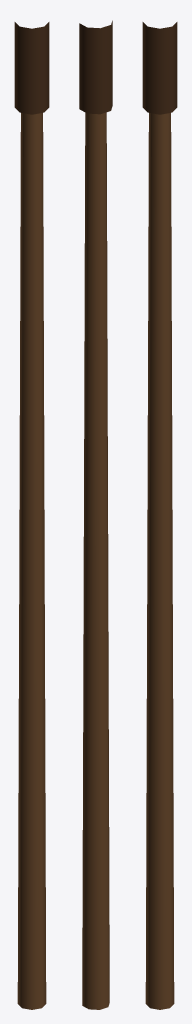
The model's file is stick.glb.
3 renders of one model, left to right at view 1: azimuth 90°, elevation 25°; view 2: azimuth 150°, elevation 25°; view 3: azimuth 270°, elevation 25°, orthographic.
Bounding box in the file's own units: 0.044 × 1.37 × 0.044.
